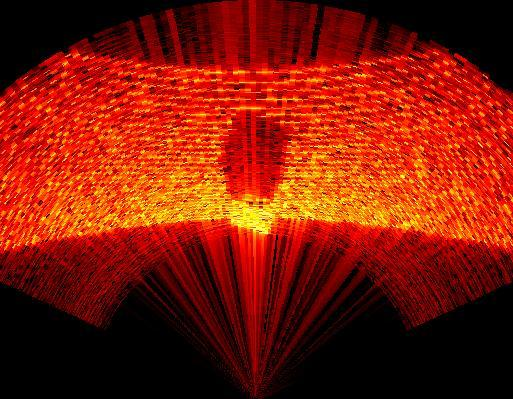box_crate: (217, 112, 292, 234)
